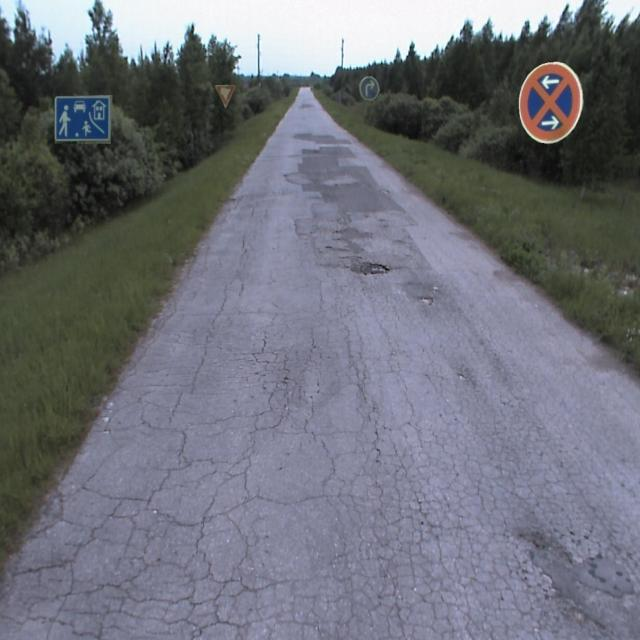road: (0, 88, 639, 639)
